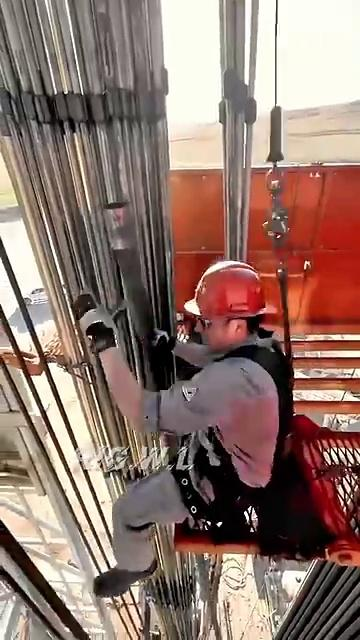gloves: (67, 270, 142, 353)
helmet: (172, 253, 313, 303)
shoes: (73, 557, 207, 612)
worker: (46, 243, 311, 640)
